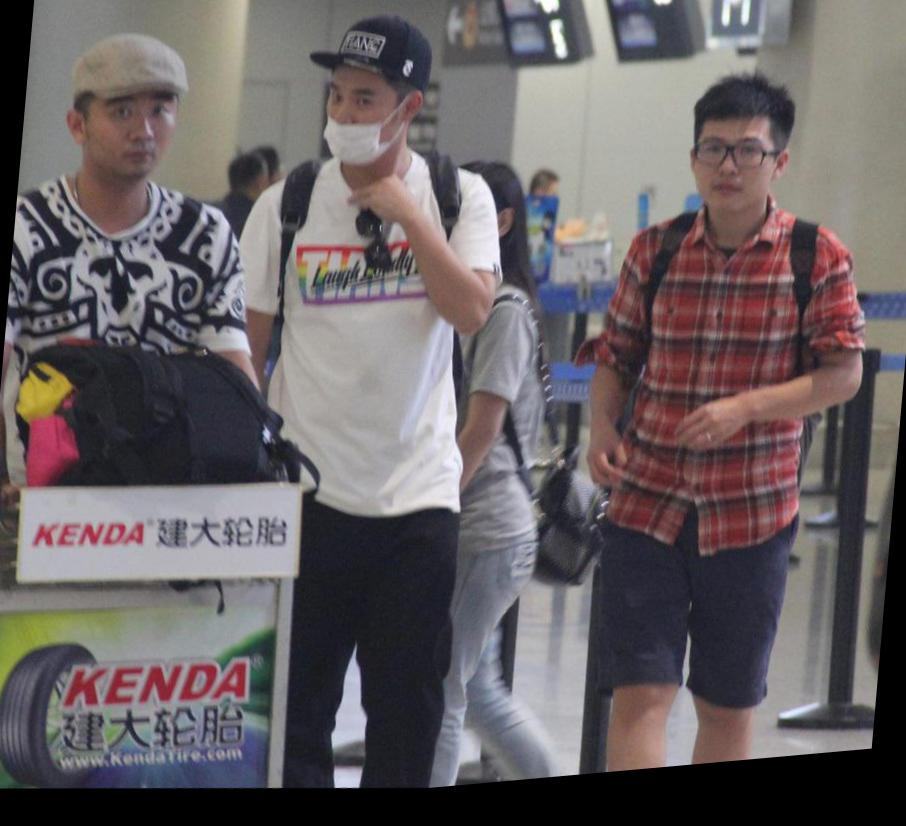NONE: (87, 90, 180, 186), (693, 129, 779, 230)
WRONG: (317, 77, 409, 175)
